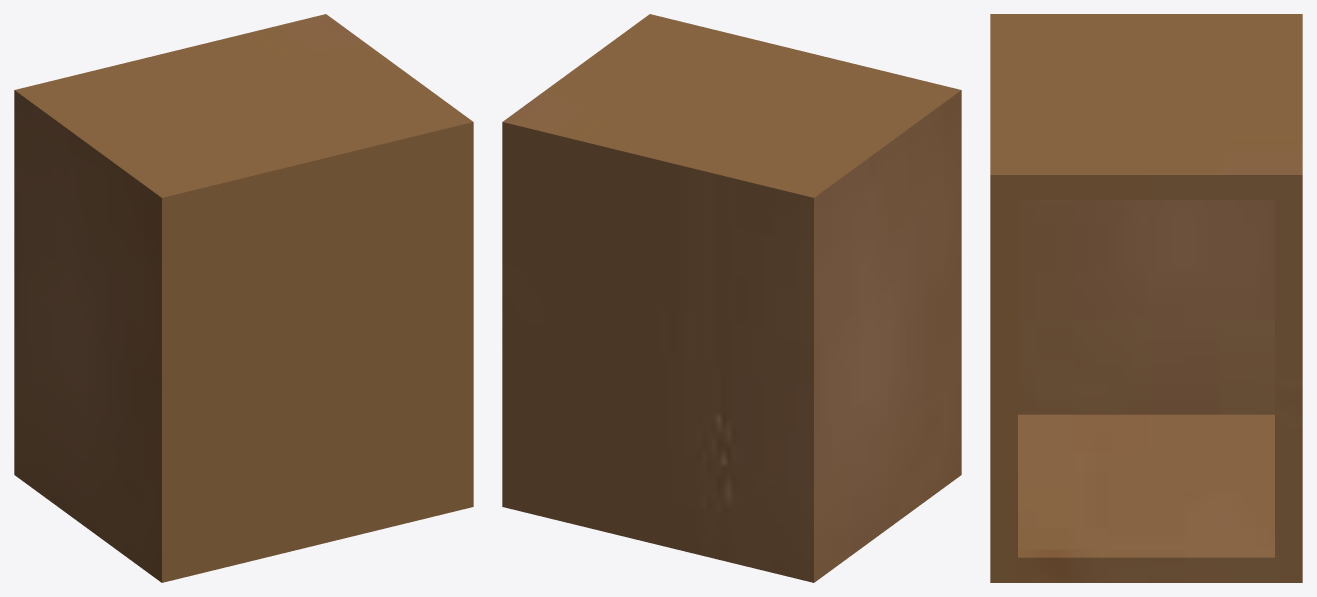
Rendered from ÇekmeceDışı.fbx.
3 renders of one model, left to right at view 1: azimuth 30°, elevation 25°; view 2: azimuth 150°, elevation 25°; view 3: azimuth 270°, elevation 25°, orthographic. The views are drawn at different scales.
Parts seen in each view (by area): view 1: Cube.003; view 2: Cube.003; view 3: Cube.003.
Boxes of the visible parts, box(x1,y1,x2,y2) form: Cube.003: box(14, 14, 473, 582); Cube.003: box(502, 14, 961, 582); Cube.003: box(990, 14, 1302, 582).
Size of the model in its own units: 224 by 264 by 183.
1 material, 1 textured.
